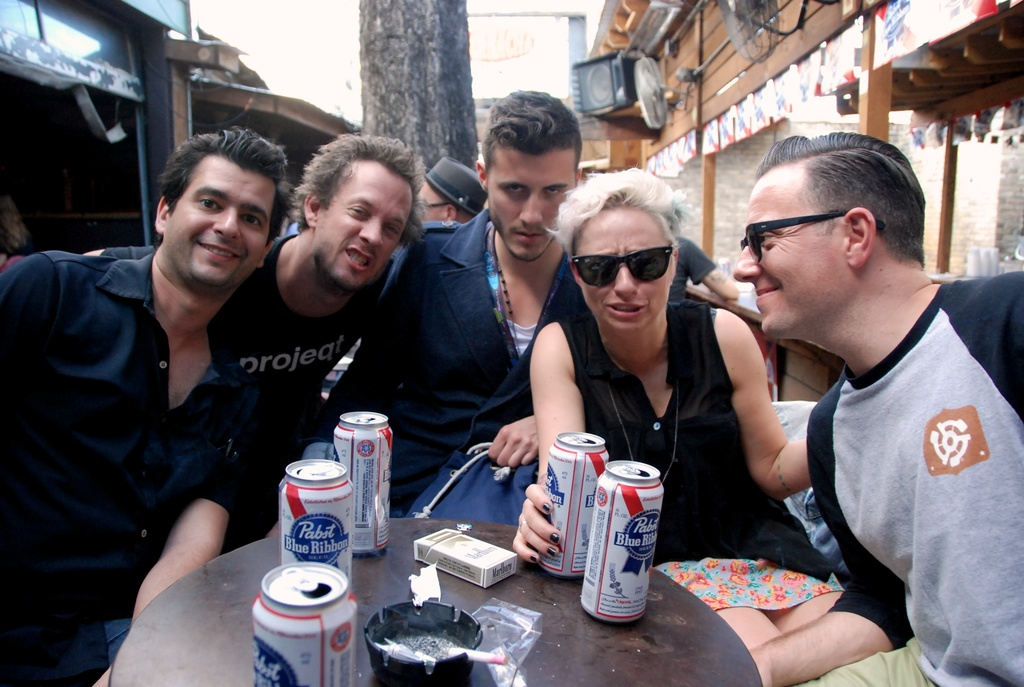Human-face: (732, 173, 848, 338), (163, 152, 276, 288), (316, 159, 413, 292), (580, 206, 673, 331), (488, 145, 576, 262), (420, 182, 445, 223)
